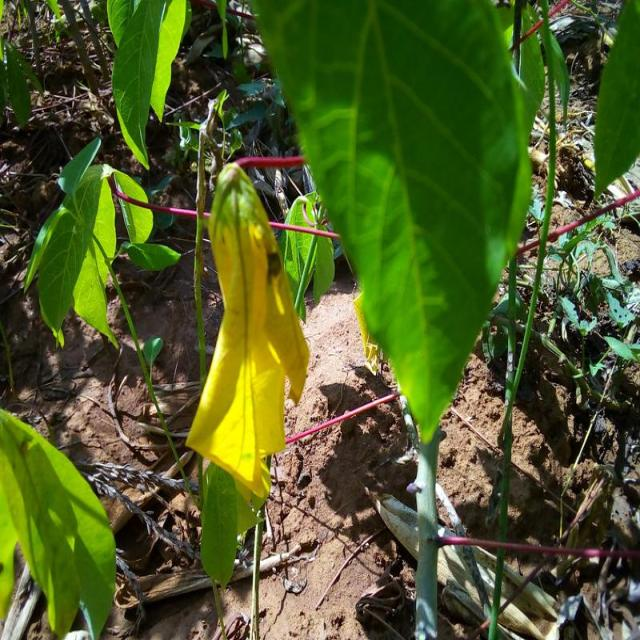cassava leaf: (248, 0, 534, 444), (184, 161, 310, 506), (0, 405, 117, 638), (22, 162, 118, 350), (106, 0, 190, 170), (591, 0, 639, 201)
